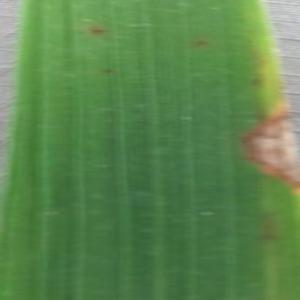Rice_Blast: (224, 95, 300, 204)
